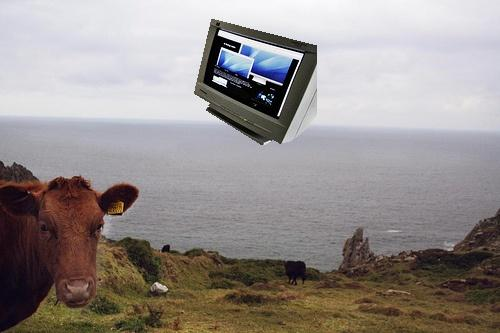tampered: (195, 20, 317, 145)
